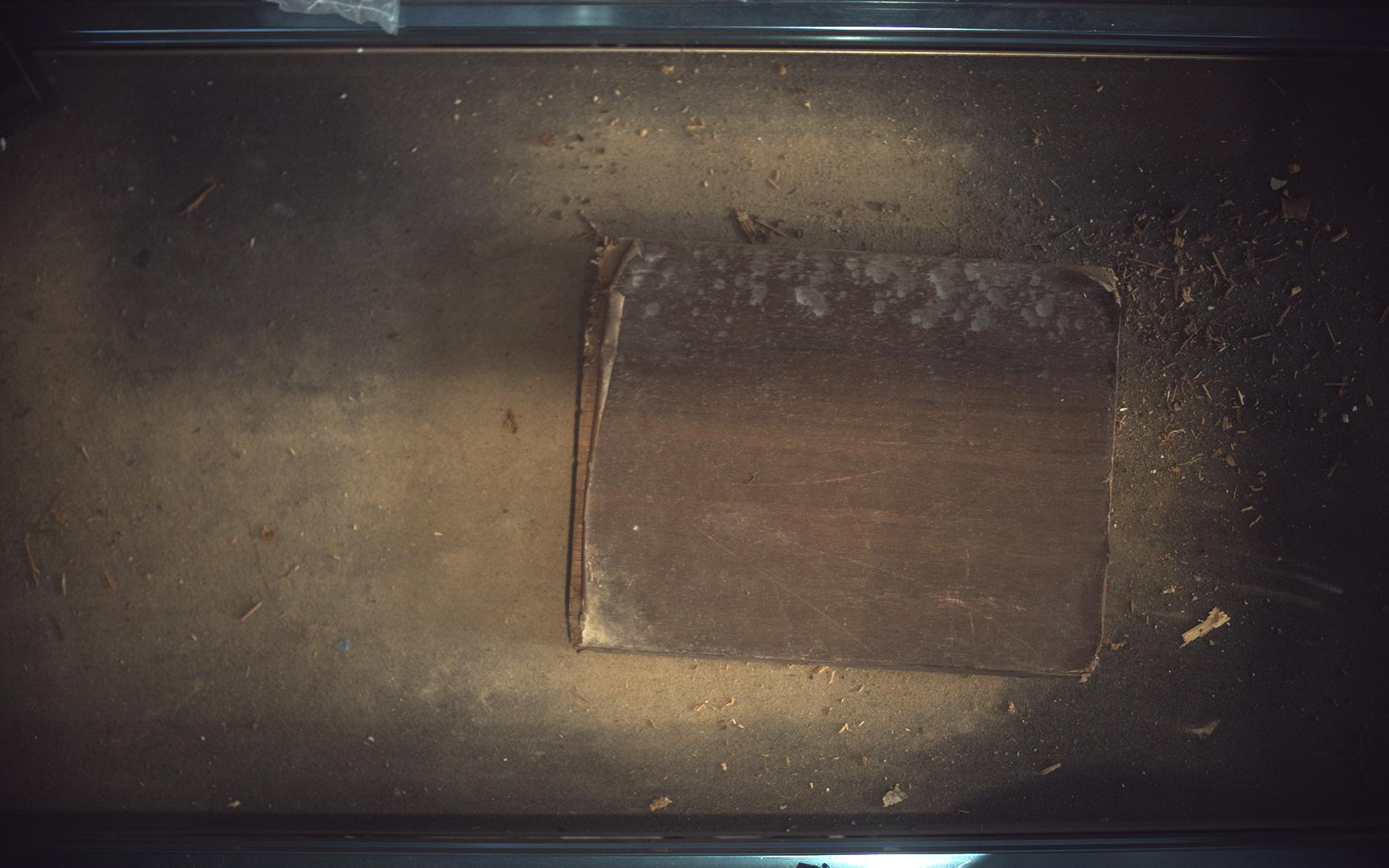wood: (569, 239, 1123, 676)
